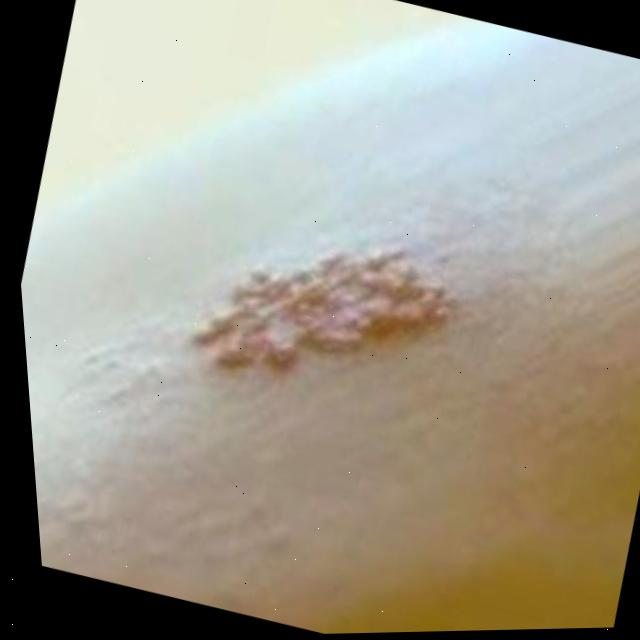Shingles: (161, 193, 474, 433)
